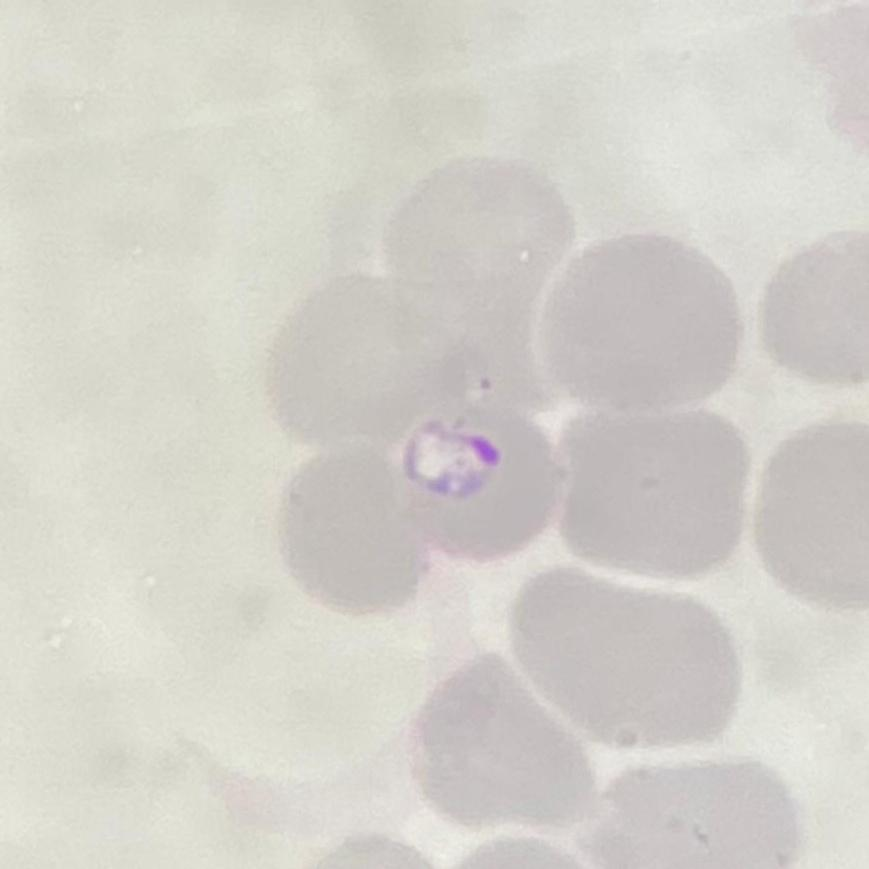Infected: (390, 402, 564, 560)
Uninfected: (385, 155, 581, 413), (508, 559, 740, 748), (538, 229, 746, 414), (550, 395, 750, 580), (267, 275, 476, 446), (417, 652, 604, 835), (280, 444, 436, 612), (585, 755, 801, 869), (752, 422, 869, 612)
